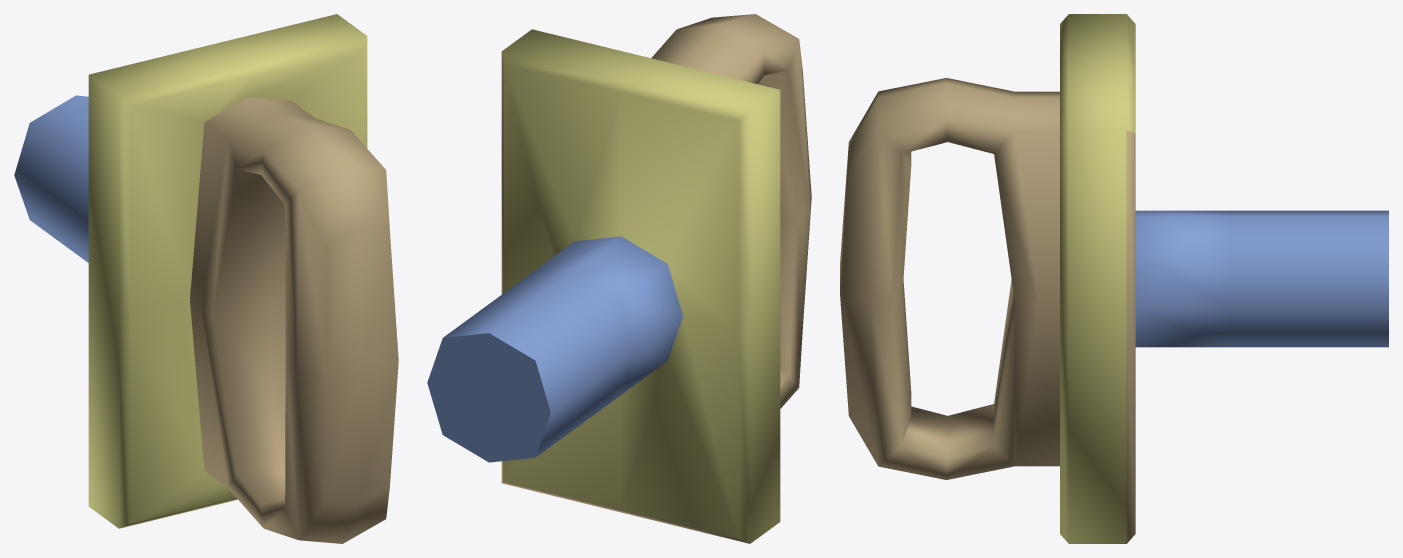
File: ShipDoorSwitchhandle.fbx
3 renders of one model, left to right at view 1: azimuth 30°, elevation 25°; view 2: azimuth 150°, elevation 25°; view 3: azimuth 270°, elevation 25°, orthographic. The views are drawn at different scales.
Visible parts, largest first — view 1: Box002; view 2: Box002; view 3: Box002.
Boxes of the visible parts, box(x1,y1,x2,y2) form: Box002: box(14, 14, 398, 543); Box002: box(427, 14, 811, 543); Box002: box(840, 14, 1388, 543).
Bounding box in the file's own units: 11.82 × 19.64 × 23.61.
